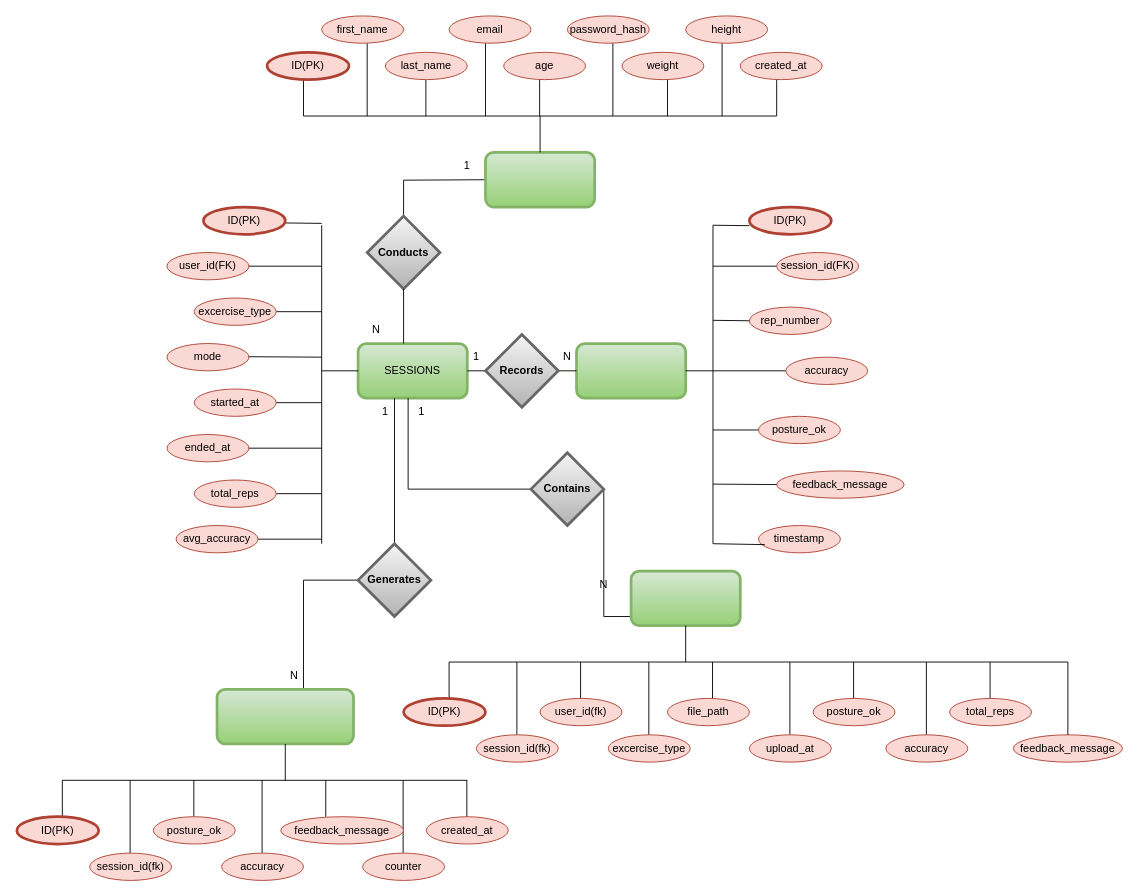
This 1138x896 diagram has some shape labels left out. Each missing label, with the centre of its shape:
"EXERCISE_FEEDBACK" belongs at point (284, 716).
"REPS" belongs at point (631, 370).
"USERS" belongs at point (540, 179).
"VIDEO_UPLOADS" belongs at point (685, 598).
